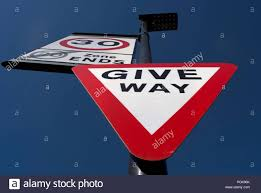giveway: (69, 63, 238, 160), (80, 83, 160, 160), (70, 65, 238, 99), (160, 82, 220, 161), (143, 64, 191, 154), (156, 64, 233, 106)
